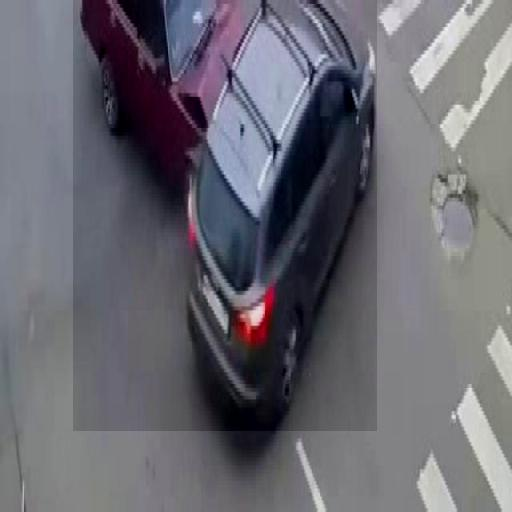小汽车撞小汽车: (73, 0, 377, 431)
